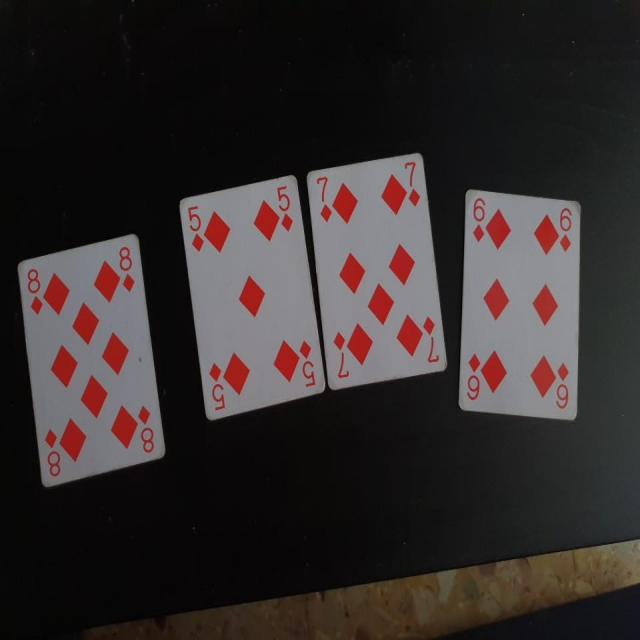5 Diamonds: (171, 169, 326, 422)
6 Diamonds: (458, 186, 582, 421)
7 Diamonds: (305, 149, 450, 391)
8 Diamonds: (16, 235, 165, 490)
